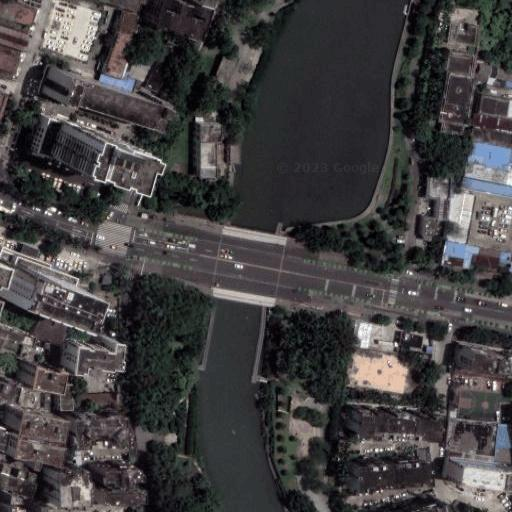building: (35, 67, 147, 127), (37, 117, 119, 177), (438, 22, 479, 136), (12, 268, 90, 327), (9, 409, 70, 469), (341, 400, 430, 435), (105, 10, 144, 79), (337, 453, 414, 485), (441, 242, 512, 275), (73, 416, 137, 452), (463, 141, 512, 187), (448, 384, 507, 422), (452, 342, 512, 375), (15, 257, 80, 287), (445, 458, 512, 487), (65, 331, 120, 366), (423, 176, 451, 241), (91, 461, 139, 497), (445, 192, 476, 246), (0, 467, 42, 500), (46, 470, 80, 507), (352, 498, 441, 512), (191, 120, 213, 176), (35, 316, 69, 348), (23, 112, 48, 154), (142, 61, 169, 98), (461, 178, 512, 197), (475, 94, 512, 120), (470, 126, 512, 148), (20, 389, 57, 412), (13, 360, 44, 385), (0, 324, 22, 359), (98, 74, 138, 93), (473, 113, 512, 132), (215, 56, 238, 87), (395, 326, 424, 349), (76, 393, 120, 408), (478, 63, 512, 81), (476, 74, 512, 90), (60, 381, 74, 412), (358, 322, 372, 350), (0, 90, 12, 122), (496, 424, 512, 447), (6, 493, 27, 508), (20, 244, 39, 258), (230, 146, 241, 164), (426, 345, 436, 355), (102, 275, 113, 284), (28, 507, 44, 512), (6, 508, 24, 512), (117, 385, 122, 393)
